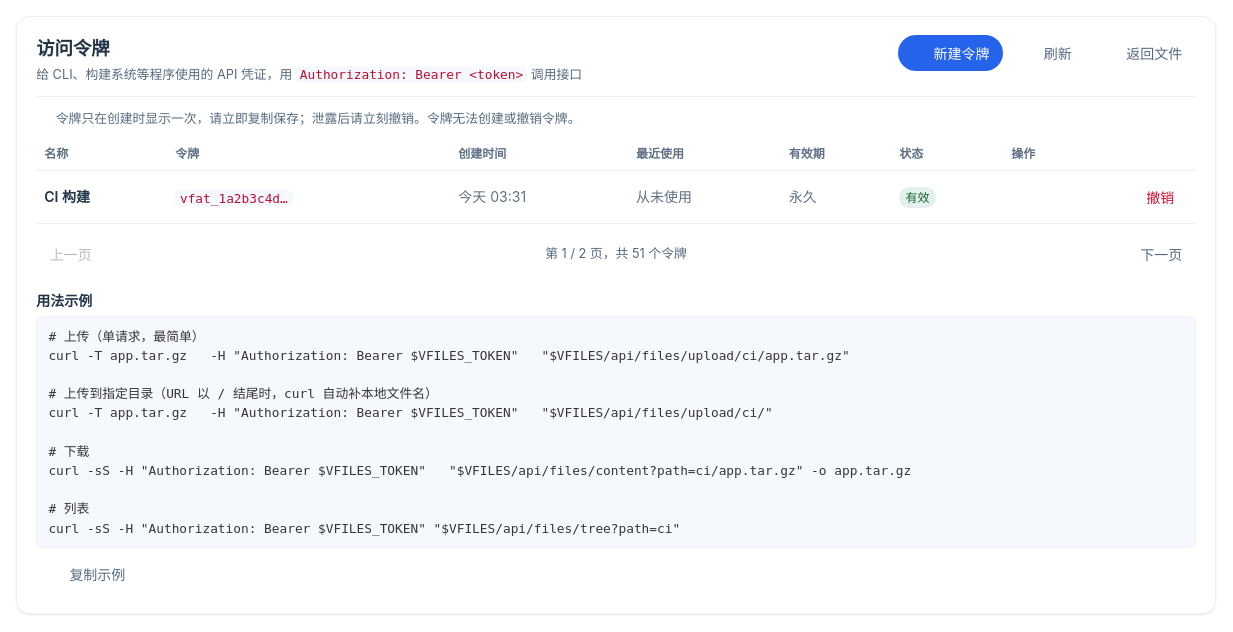
Test: AccessTokens.vue › loads subsequent pages on demand
Expected: the text "第 1 / 2 页，共 51 个令牌" is shown, [545, 244, 687, 264]
Click the button "下一页" at [1161, 254], box [1127, 236, 1196, 272]
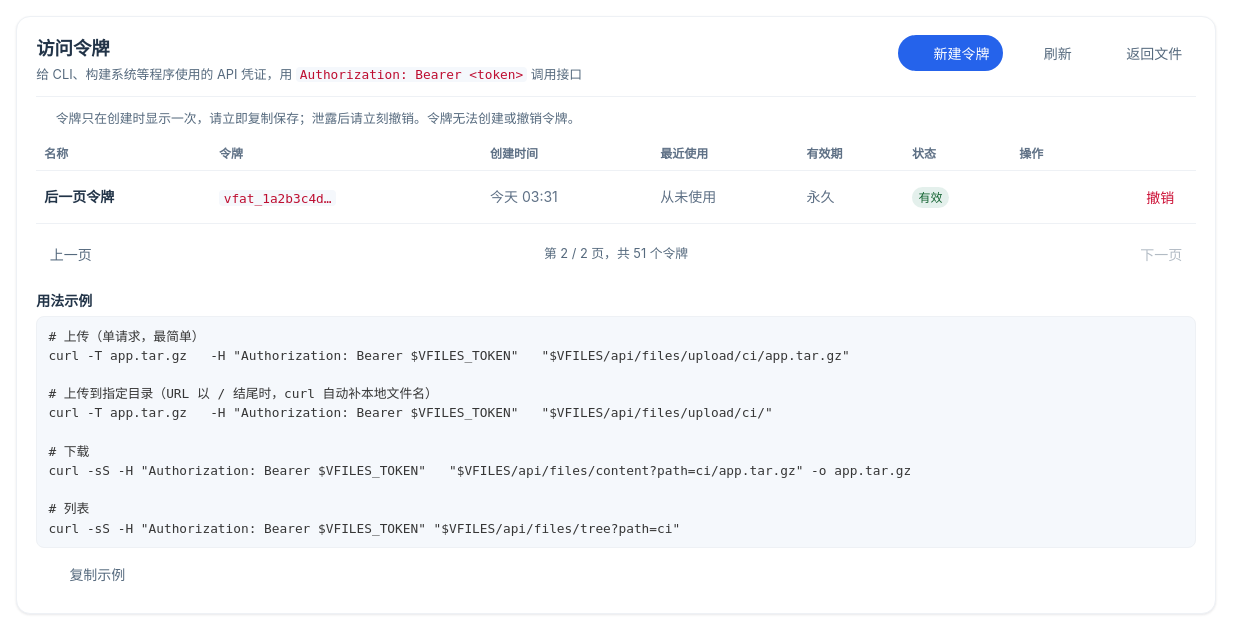
Expected: the text "后一页令牌" is shown, [36, 170, 211, 223]
Expected: the text "第 2 / 2 页，共 51 个令牌" is shown, [544, 244, 688, 264]
